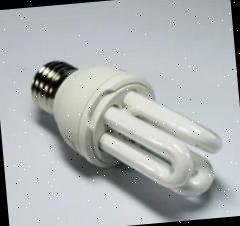lightbulb: (28, 46, 227, 211)
